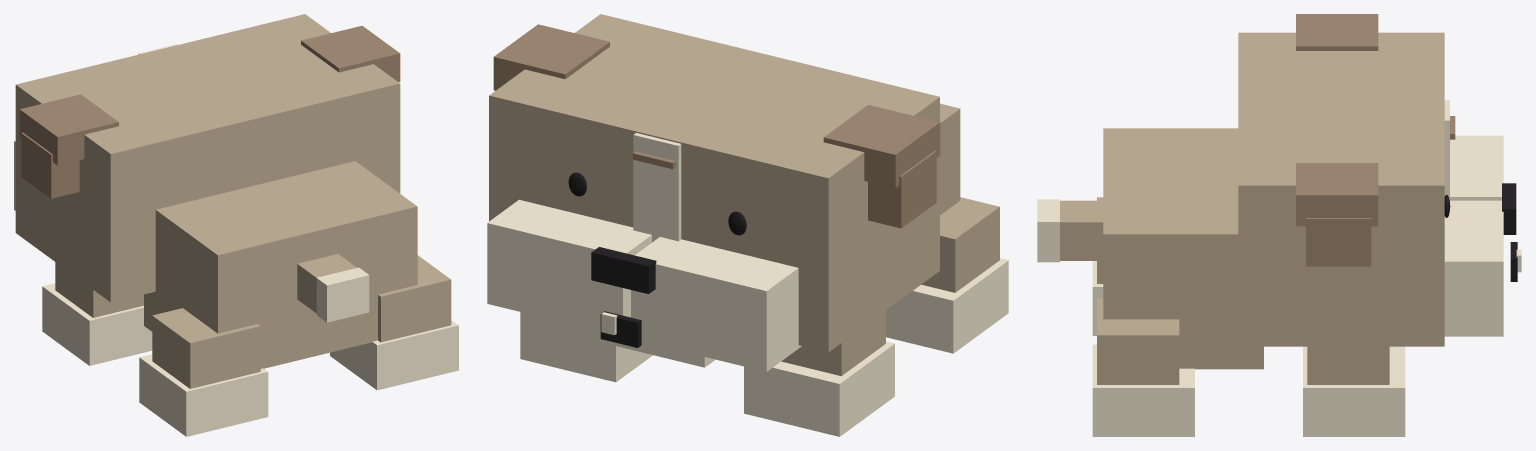
File: Bulldog_Block.obj
3 views of the same model, side by side, from view 1: azimuth 30°, elevation 25°; view 2: azimuth 150°, elevation 25°; view 3: azimuth 270°, elevation 25° (orthographic). The views are drawn at different scales.
Visible parts, largest first — view 1: BigHead, ShortTorso, LegBL_Paw, LegBL_Leg, LegFL_Paw, LegBR_Paw, EarL_Fold, LegBR_Leg, EarR_Fold, TailTip, EarL_Drop, LegFL_Leg (+1 smaller); view 2: BigHead, PuffedCheekL, PuffedCheekR, LegFL_Paw, LegBL_Paw, EarL_Fold, LegBL_Leg, LegFR_Paw, WhiteBlaze, EarR_Fold, EarL_Drop, LegFL_Leg (+4 smaller); view 3: BigHead, ShortTorso, PuffedCheekR, LegFR_Paw, LegBR_Paw, LegBR_Leg, EarR_Fold, PuffedCheekL, LegFR_Leg, EarR_Drop, EarL_Fold, TailStub (+4 smaller).
Part boxes in pixels (x1,y1,x2,y2): BigHead: [15, 14, 400, 302]; ShortTorso: [144, 161, 417, 368]; LegBL_Paw: [139, 354, 268, 436]; LegBL_Leg: [152, 308, 260, 388]; LegFL_Paw: [42, 283, 152, 365]; LegBR_Paw: [330, 320, 458, 390]; EarL_Fold: [19, 94, 118, 165]; LegBR_Leg: [378, 255, 451, 342]; EarR_Fold: [301, 25, 400, 82]; TailTip: [316, 267, 369, 322]; EarL_Drop: [21, 132, 79, 198]; LegFL_Leg: [55, 262, 143, 317]; BigHead: [489, 14, 939, 352]; PuffedCheekL: [631, 237, 801, 371]; PuffedCheekR: [487, 199, 651, 331]; LegFL_Paw: [744, 341, 894, 436]; LegBL_Paw: [886, 258, 1008, 353]; EarL_Fold: [823, 105, 940, 188]; LegBL_Leg: [921, 197, 999, 292]; LegFR_Paw: [520, 312, 652, 382]; WhiteBlaze: [633, 133, 681, 242]; EarR_Fold: [493, 24, 609, 90]; EarL_Drop: [868, 151, 936, 228]; LegFL_Leg: [781, 311, 885, 375]; BigHead: [1238, 32, 1444, 346]; ShortTorso: [1103, 128, 1263, 369]; PuffedCheekR: [1444, 200, 1503, 336]; LegFR_Paw: [1303, 346, 1405, 436]; LegBR_Paw: [1092, 344, 1194, 436]; LegBR_Leg: [1097, 298, 1179, 384]; EarR_Fold: [1296, 163, 1378, 226]; PuffedCheekL: [1450, 135, 1503, 200]; LegFR_Leg: [1307, 346, 1389, 384]; EarR_Drop: [1306, 218, 1371, 266]; EarL_Fold: [1296, 14, 1378, 50]; TailStub: [1060, 200, 1103, 260].
Size of the model in its own units: 3.05 by 2.02 by 3.41.
